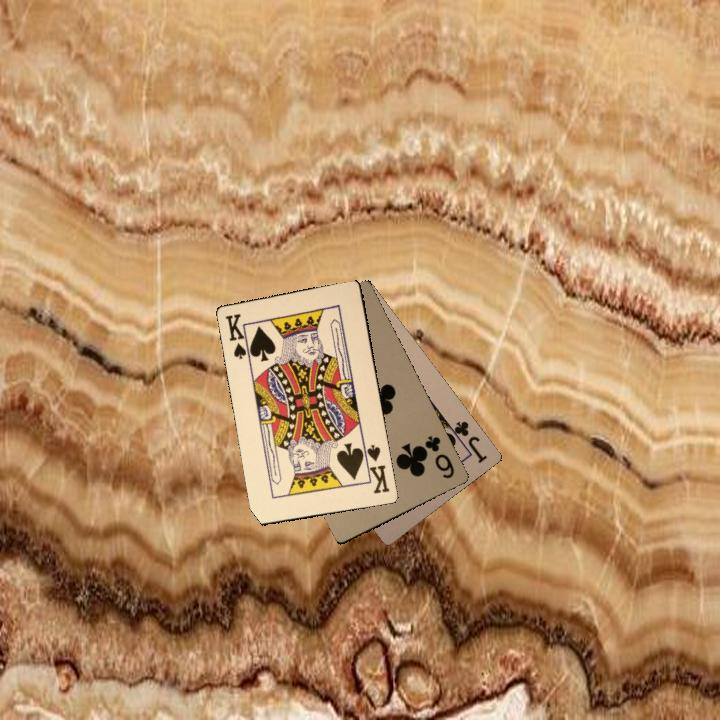6c: (421, 431, 457, 481)
Jc: (444, 417, 490, 466)
Ks: (359, 442, 392, 496), (221, 309, 253, 362)
